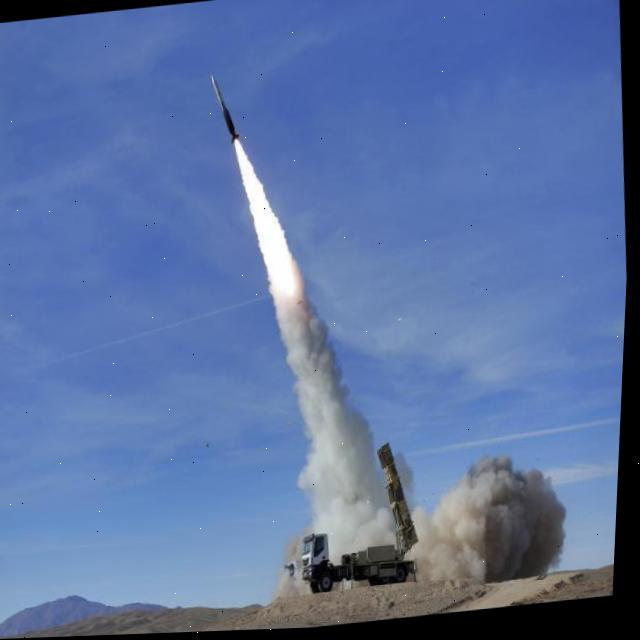missile: (204, 71, 249, 143)
